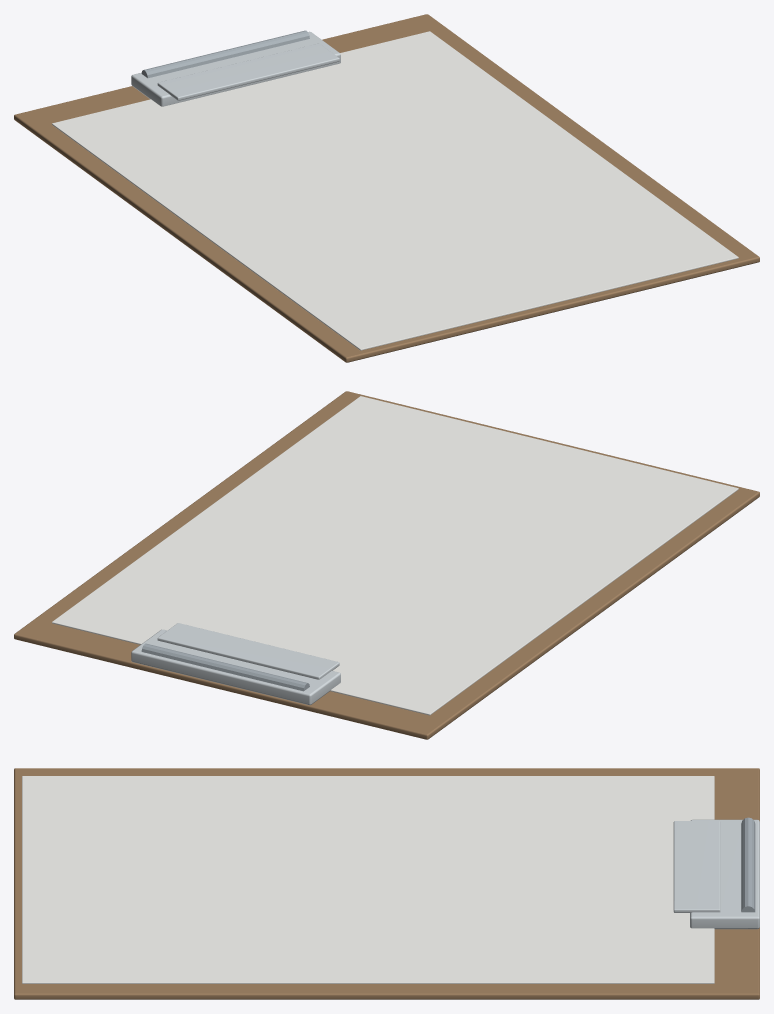
The model's file is clipboard_chart.fbx.
The picture shows the model from 3 angles, top to bottom: view 1: azimuth 30°, elevation 25°; view 2: azimuth 150°, elevation 25°; view 3: azimuth 270°, elevation 25°; orthographic projection. The views are drawn at different scales.
Parts seen in each view (by area): view 1: EQ_clipboard_chart_Chart, EQ_clipboard_chart_Body, EQ_clipboard_chart_ClipJaw, EQ_clipboard_chart_ClipBase, EQ_clipboard_chart_ClipHinge; view 2: EQ_clipboard_chart_Chart, EQ_clipboard_chart_Body, EQ_clipboard_chart_ClipBase, EQ_clipboard_chart_ClipJaw, EQ_clipboard_chart_ClipHinge; view 3: EQ_clipboard_chart_Chart, EQ_clipboard_chart_Body, EQ_clipboard_chart_ClipJaw, EQ_clipboard_chart_ClipBase, EQ_clipboard_chart_ClipHinge.
Boxes of the visible parts, x1=… form: EQ_clipboard_chart_Chart: x1=52, y1=31, x2=738, y2=350; EQ_clipboard_chart_Body: x1=14, y1=14, x2=759, y2=362; EQ_clipboard_chart_ClipJaw: x1=157, y1=43, x2=339, y2=100; EQ_clipboard_chart_ClipBase: x1=131, y1=31, x2=340, y2=106; EQ_clipboard_chart_ClipHinge: x1=141, y1=30, x2=309, y2=78; EQ_clipboard_chart_Chart: x1=52, y1=396, x2=738, y2=715; EQ_clipboard_chart_Body: x1=14, y1=391, x2=759, y2=739; EQ_clipboard_chart_ClipBase: x1=131, y1=629, x2=340, y2=705; EQ_clipboard_chart_ClipJaw: x1=157, y1=623, x2=339, y2=679; EQ_clipboard_chart_ClipHinge: x1=141, y1=643, x2=309, y2=691; EQ_clipboard_chart_Chart: x1=22, y1=776, x2=714, y2=983; EQ_clipboard_chart_Body: x1=14, y1=768, x2=759, y2=999; EQ_clipboard_chart_ClipJaw: x1=673, y1=821, x2=720, y2=912; EQ_clipboard_chart_ClipBase: x1=690, y1=819, x2=759, y2=929; EQ_clipboard_chart_ClipHinge: x1=741, y1=817, x2=755, y2=912.
Size of the model in its own units: 0.23 by 0.012 by 0.32.
